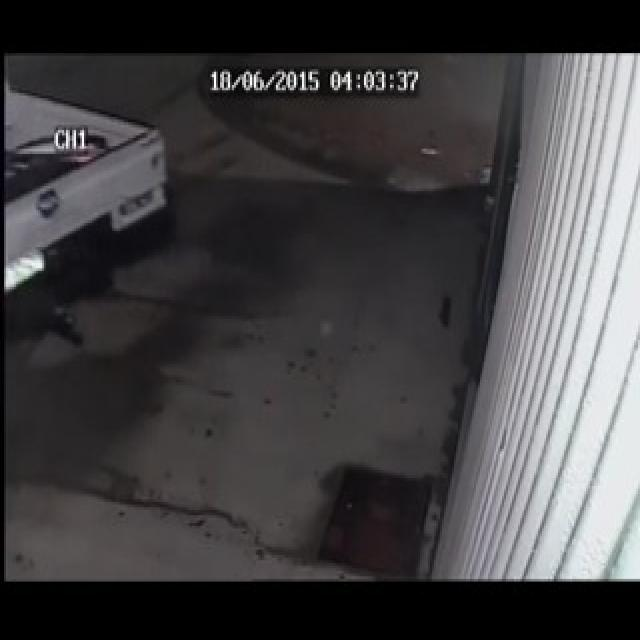burglary: (14, 118, 116, 237)
